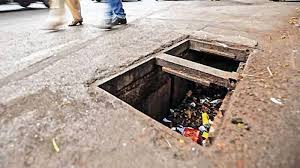Manhole-Open: (85, 22, 278, 154)
